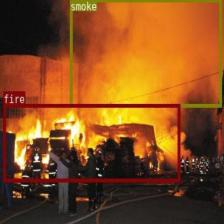fire: (3, 104, 180, 181)
smoke: (69, 0, 221, 107)
